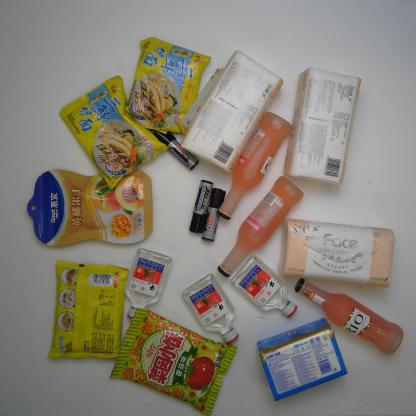Alcohol: (216, 175, 305, 278), (294, 275, 404, 357), (216, 111, 292, 221), (230, 254, 298, 319), (182, 272, 239, 345), (122, 248, 173, 321)
Dried Fruit: (26, 167, 154, 250)
Instant Noodles: (58, 75, 168, 192), (124, 36, 212, 138), (47, 258, 130, 360)
Puffed Food: (108, 305, 237, 416)
Stationery: (151, 128, 200, 172), (187, 176, 215, 234), (200, 187, 226, 242)
Tissue: (180, 48, 284, 174), (280, 65, 363, 188), (276, 216, 395, 288), (255, 317, 349, 402)
